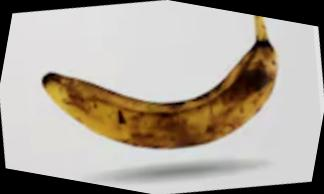Banana Overripe: (32, 0, 300, 174)
